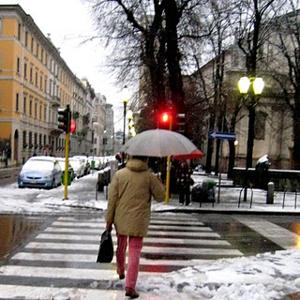person: (106, 156, 168, 299)
